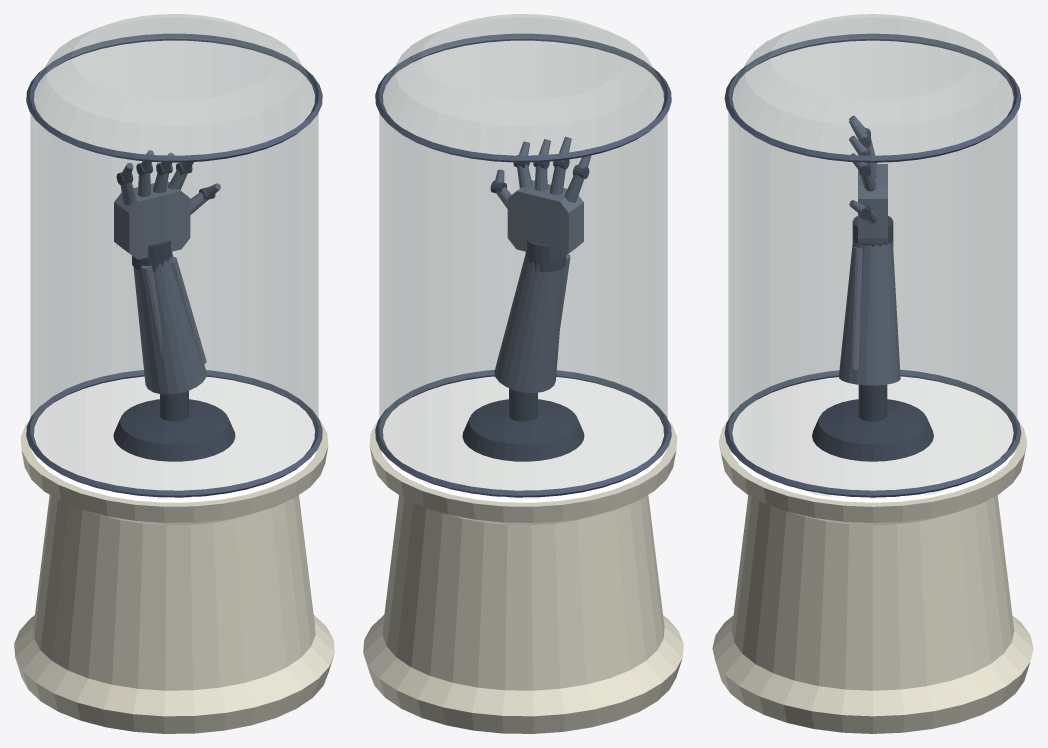
Rendered from bw_implant_showcase.glb.
The picture shows the model from 3 angles, left to right: view 1: azimuth 30°, elevation 25°; view 2: azimuth 150°, elevation 25°; view 3: azimuth 270°, elevation 25°; orthographic projection.
Visible parts, largest first — view 1: bell_glass, pedestal, lightwell, distal, display_mount, palm; view 2: bell_glass, pedestal, lightwell, distal, display_mount, palm; view 3: bell_glass, pedestal, lightwell, distal, display_mount, palm.
Boxes of the visible parts, bbox=[...] form: bell_glass: bbox=[30, 14, 318, 498]; pedestal: bbox=[14, 420, 334, 733]; lightwell: bbox=[31, 376, 316, 502]; distal: bbox=[26, 33, 322, 497]; display_mount: bbox=[113, 162, 235, 461]; palm: bbox=[114, 181, 206, 364]; bell_glass: bbox=[379, 14, 667, 499]; pedestal: bbox=[363, 420, 683, 733]; lightwell: bbox=[381, 376, 666, 502]; distal: bbox=[375, 33, 671, 497]; display_mount: bbox=[462, 155, 589, 461]; palm: bbox=[507, 180, 583, 327]; bell_glass: bbox=[728, 14, 1017, 498]; pedestal: bbox=[712, 421, 1033, 733]; lightwell: bbox=[730, 376, 1015, 502]; distal: bbox=[724, 33, 1021, 497]; display_mount: bbox=[812, 128, 933, 461]; palm: bbox=[849, 164, 887, 369].
Size of the model in its own units: 1 by 2.1 by 1.
